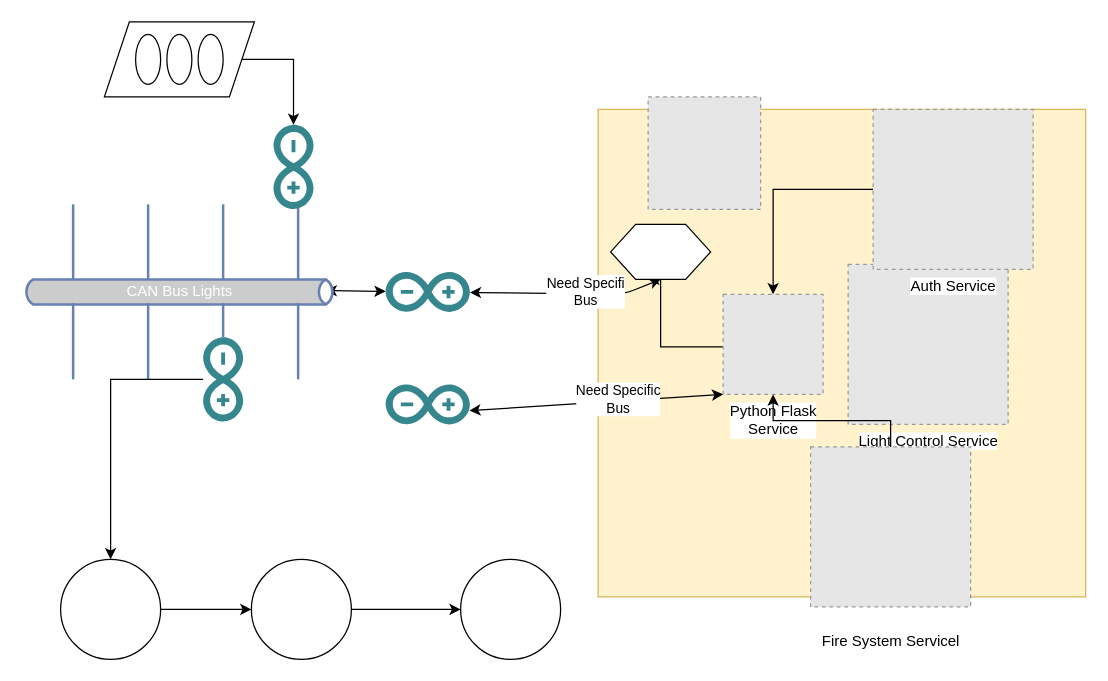
Some shapes in this 1108 by 681 pixel diagram are drawn without their labels. Grey dashed boxes stand in for pictures. The shapes that lost their labels are listed below. From the top down, each one's box as (x1, y1, x2, y2) in pixels, then its label:
(609, 223, 711, 279): mqtt broker
(385, 271, 469, 311): Light Bus Bridge
(385, 384, 469, 424): Fire Bus Bridge
